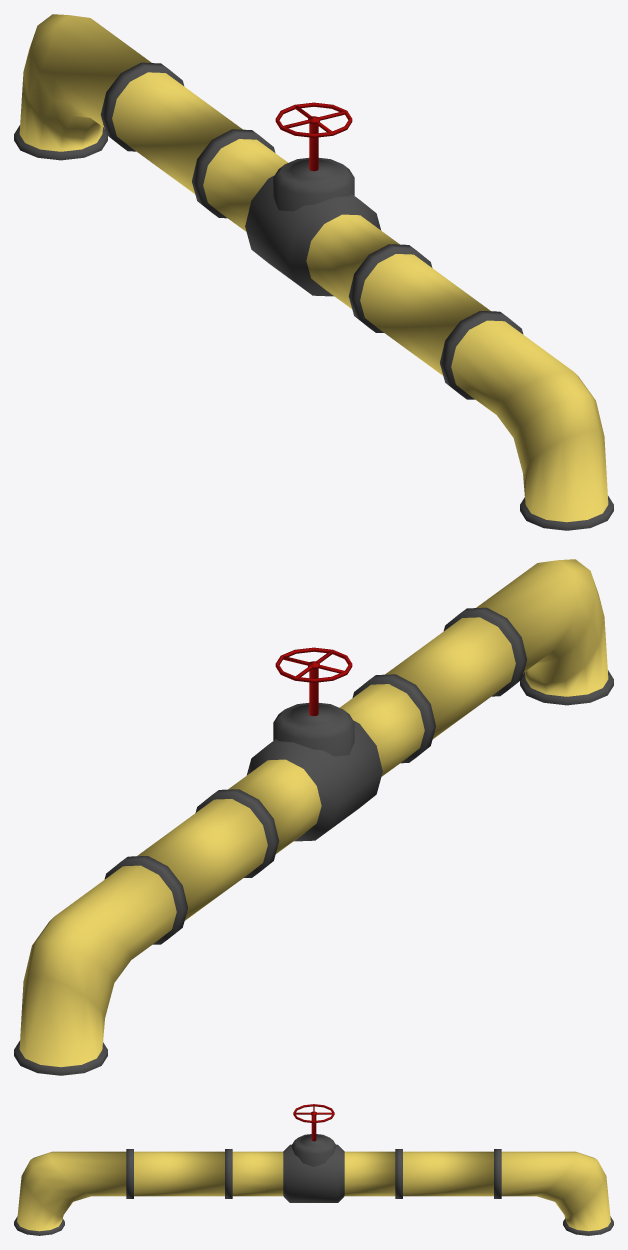
The model's file is gas_pipeline_REMAKE.fbx.
3 views of the same model, one above another, from view 1: azimuth 30°, elevation 25°; view 2: azimuth 150°, elevation 25°; view 3: azimuth 270°, elevation 25° (orthographic). The views are drawn at different scales.
Parts seen in each view (by area): view 1: gas_pipeline_01, gas_pipeline_01.001; view 2: gas_pipeline_01, gas_pipeline_01.001; view 3: gas_pipeline_01, gas_pipeline_01.001.
Part boxes in pixels (x1,y1,x2,y2): gas_pipeline_01: (14,14,613,530); gas_pipeline_01.001: (275,102,352,170); gas_pipeline_01: (14,559,613,1075); gas_pipeline_01.001: (275,647,352,715); gas_pipeline_01: (14,1134,613,1235); gas_pipeline_01.001: (293,1104,334,1141).
Bounding box in the file's own units: 39.06 × 83.18 × 400.
